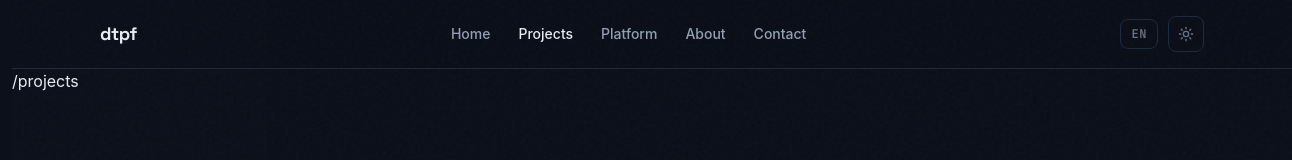
it: Header language in the URL › on a Spanish URL offers EN, navigates to the /en twin, saves the choice and tracks it
This screenshot has width=1292, height=160.
Click the button "EN": (1139, 34) 1120,19 -> 1158,49
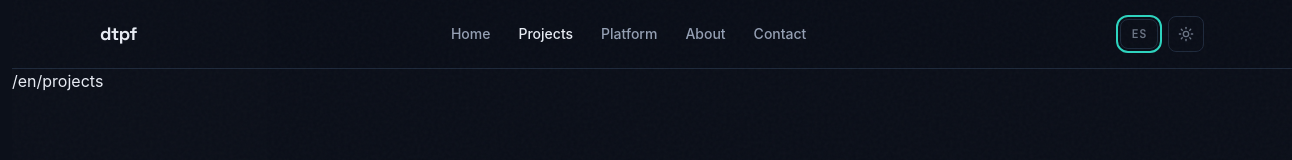
Check: the text with test id "where" reads "/en/projects", box 12,71 -> 103,91
